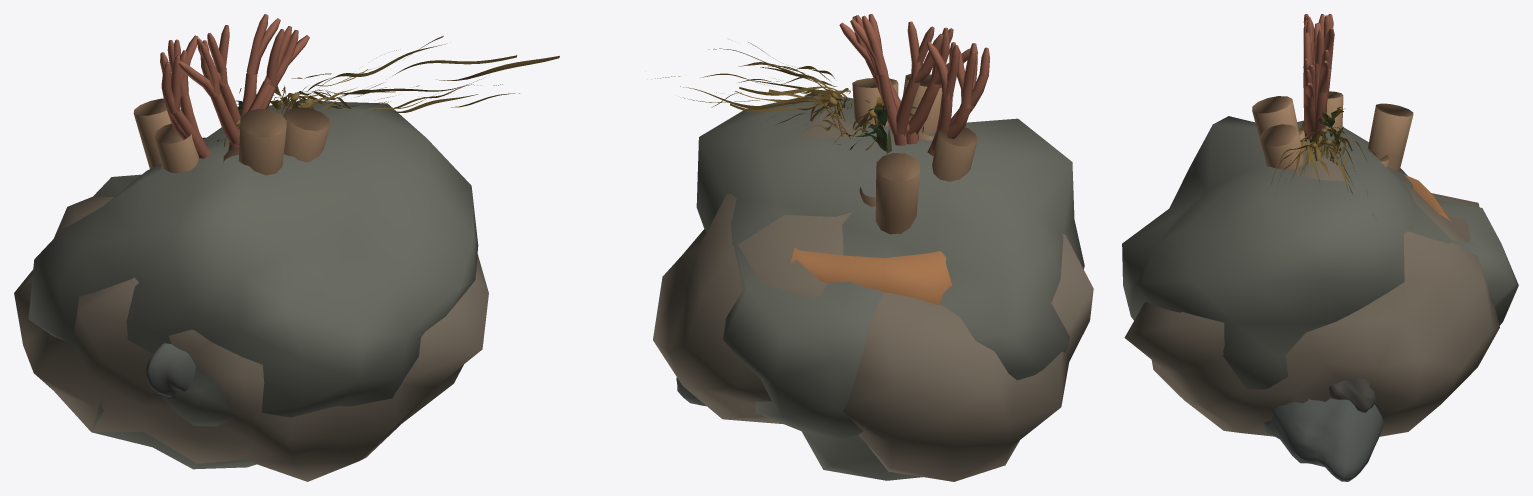
Rendered from reef-forms.glb.
The picture shows the model from 3 angles, left to right: view 1: azimuth 30°, elevation 25°; view 2: azimuth 150°, elevation 25°; view 3: azimuth 270°, elevation 25°; orthographic projection. The views are drawn at different scales.
Visible parts, largest first — view 1: reef-block, reef-outcrop, branching-colony, tube-sponge, streaming-crown, bedrock-ledge, bull-kelp-crown; view 2: reef-block, reef-outcrop, branching-colony, tube-sponge, cup-sponge, streaming-crown, kelp-column, bull-kelp-crown; view 3: reef-block, reef-outcrop, fractured-boulder, tube-sponge, branching-colony, bedrock-ledge, streaming-crown, bull-kelp-crown, cup-sponge.
Part boxes in pixels (box(x1,y1,x2,y2)): reef-block: box(28, 101, 478, 469); reef-outcrop: box(14, 196, 488, 481); branching-colony: box(160, 14, 309, 158); tube-sponge: box(133, 98, 330, 175); streaming-crown: box(295, 35, 559, 124); bedrock-ledge: box(145, 343, 195, 396); bull-kelp-crown: box(274, 73, 386, 117); reef-block: box(696, 93, 1084, 480); reef-outcrop: box(653, 110, 1093, 481); branching-colony: box(839, 14, 989, 155); tube-sponge: box(852, 74, 977, 234); cup-sponge: box(790, 247, 951, 305); streaming-crown: box(651, 42, 850, 122); kelp-column: box(848, 97, 917, 153); bull-kelp-crown: box(711, 77, 850, 136); reef-block: box(1122, 116, 1518, 389); reef-outcrop: box(1124, 156, 1499, 436); fractured-boulder: box(1264, 398, 1383, 481); tube-sponge: box(1252, 91, 1413, 172); branching-colony: box(1303, 14, 1334, 144); bedrock-ledge: box(1329, 378, 1375, 412); streaming-crown: box(1267, 138, 1376, 220); bull-kelp-crown: box(1280, 135, 1355, 176); cup-sponge: box(1403, 174, 1450, 220).
Size of the model in its own units: 2.79 by 2.42 by 2.19.
